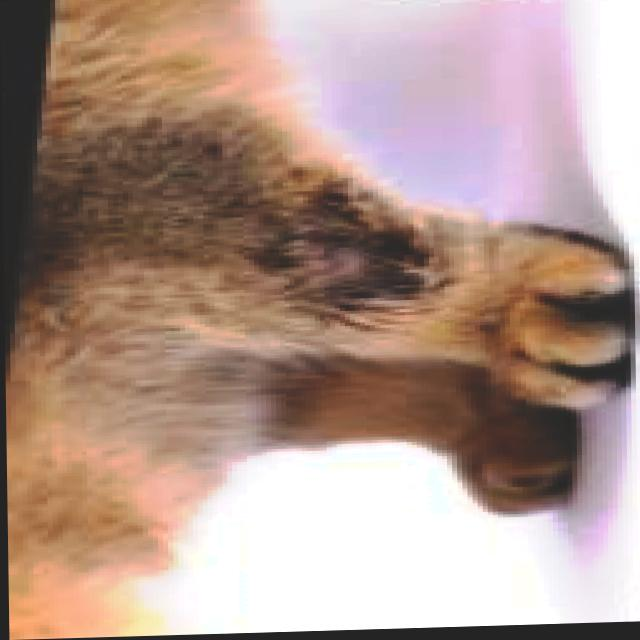ringworm: (299, 199, 419, 289)
